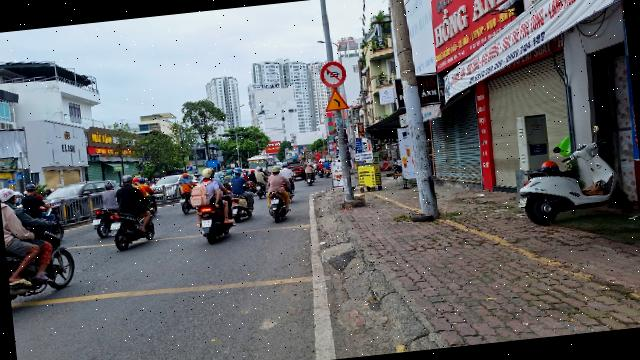cam-bop-coi: (319, 60, 348, 89)
cho-ngoat-nguy-hiem-ben-trai: (324, 88, 349, 112)
